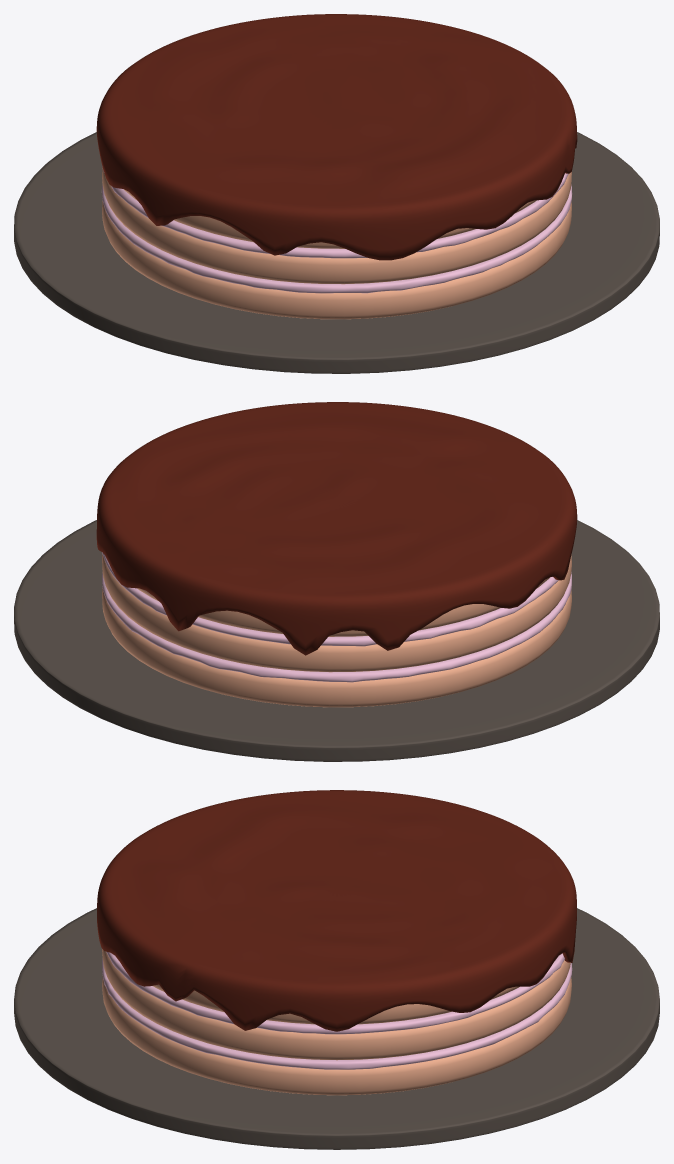
Rendered from 3LayerRoundCake.fbx.
The picture shows the model from 3 angles, top to bottom: view 1: azimuth 30°, elevation 25°; view 2: azimuth 150°, elevation 25°; view 3: azimuth 270°, elevation 25°; orthographic projection.
Parts seen in each view (by area): view 1: Cylinder.006, Cylinder.001, Cylinder, Cylinder.003, Cylinder.002, Cylinder.007, Cylinder.005; view 2: Cylinder.006, Cylinder.001, Cylinder, Cylinder.003, Cylinder.002, Cylinder.007, Cylinder.005; view 3: Cylinder.006, Cylinder.001, Cylinder, Cylinder.003, Cylinder.002, Cylinder.007, Cylinder.005.
Boxes of the visible parts, left/top/right/bottom form: Cylinder.006: left=96, top=14, right=577, bottom=260; Cylinder.001: left=14, top=132, right=659, bottom=373; Cylinder: left=102, top=201, right=571, bottom=319; Cylinder.003: left=102, top=167, right=571, bottom=284; Cylinder.002: left=101, top=184, right=572, bottom=293; Cylinder.007: left=103, top=170, right=568, bottom=258; Cylinder.005: left=123, top=189, right=536, bottom=248; Cylinder.006: left=96, top=402, right=577, bottom=655; Cylinder.001: left=14, top=520, right=659, bottom=761; Cylinder: left=102, top=588, right=571, bottom=707; Cylinder.003: left=102, top=554, right=571, bottom=672; Cylinder.002: left=102, top=572, right=571, bottom=682; Cylinder.007: left=102, top=552, right=558, bottom=646; Cylinder.005: left=137, top=577, right=550, bottom=636; Cylinder.006: left=97, top=790, right=576, bottom=1031; Cylinder.001: left=14, top=908, right=659, bottom=1149; Cylinder: left=102, top=976, right=571, bottom=1095; Cylinder.003: left=102, top=949, right=570, bottom=1060; Cylinder.002: left=102, top=959, right=572, bottom=1069; Cylinder.007: left=106, top=951, right=564, bottom=1034; Cylinder.005: left=153, top=984, right=519, bottom=1024.
Size of the model in its own units: 39.74 by 8.81 by 39.74.
